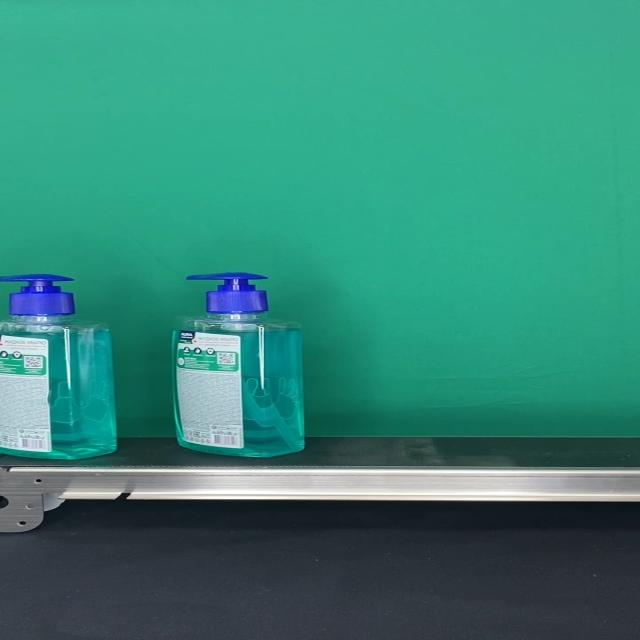Bottle: (170, 273, 305, 457), (0, 273, 117, 459)
Cap: (185, 273, 267, 314), (1, 274, 75, 316)
